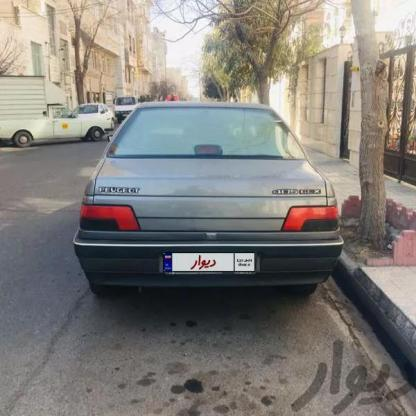Car: (77, 98, 340, 310), (0, 75, 116, 145), (74, 97, 119, 133), (110, 90, 142, 121)
